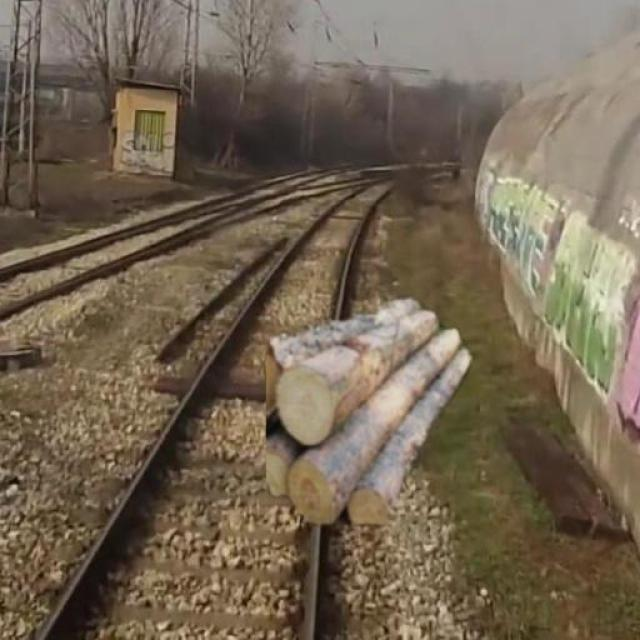Branches: (250, 291, 475, 526)
